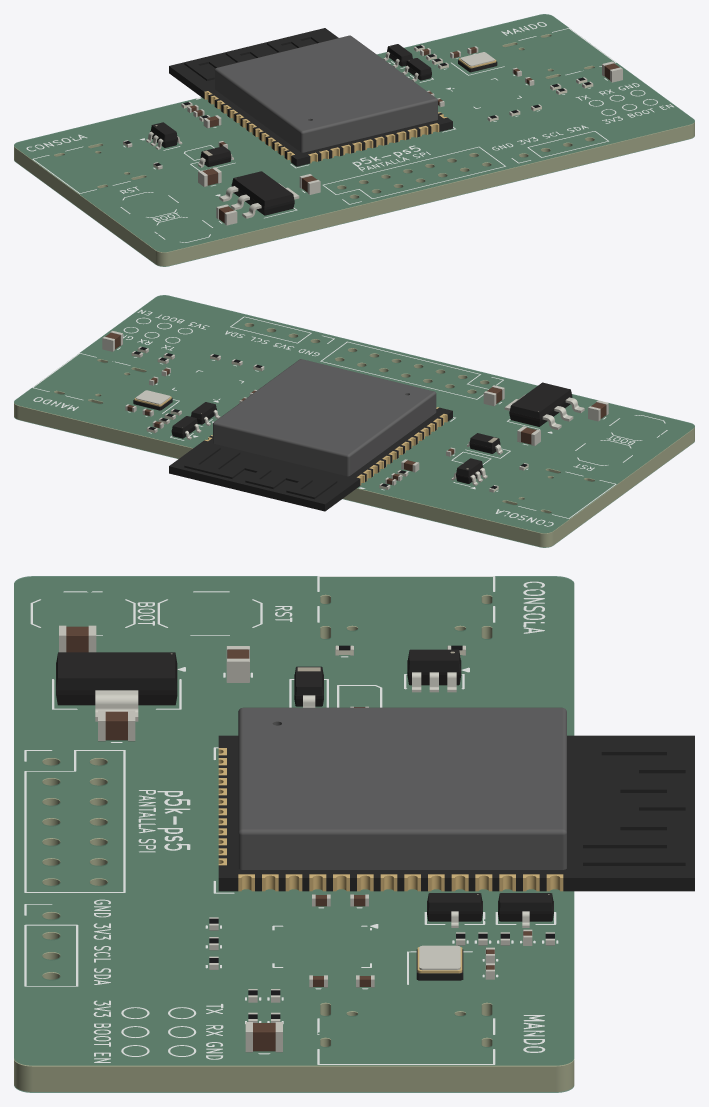
The model's file is placa.glb.
3 renders of one model, top to bottom at view 1: azimuth 30°, elevation 25°; view 2: azimuth 150°, elevation 25°; view 3: azimuth 270°, elevation 25°, orthographic. The views are drawn at different scales.
Visible parts, largest first — view 1: =>[0:1:1:26], =>[0:1:1:24], =>[0:1:1:15], =>[0:1:1:22], =>[0:1:1:9], =>[0:1:1:19] (×2), =>[0:1:1:25], =>[0:1:1:17], =>[0:1:1:3], =>[0:1:1:21]; view 2: =>[0:1:1:26], =>[0:1:1:24], =>[0:1:1:15], =>[0:1:1:22], =>[0:1:1:9], =>[0:1:1:19] (×2), =>[0:1:1:17], =>[0:1:1:25], =>[0:1:1:3], =>[0:1:1:21]; view 3: =>[0:1:1:26], =>[0:1:1:24], =>[0:1:1:15], =>[0:1:1:22], =>[0:1:1:9], =>[0:1:1:11] (×4), =>[0:1:1:19] (×2), =>[0:1:1:17], =>[0:1:1:3], =>[0:1:1:21].
Boxes of the visible parts, <box> form: =>[0:1:1:26]: <box>14,15,694,266</box>; =>[0:1:1:24]: <box>14,14,694,252</box>; =>[0:1:1:15]: <box>169,28,452,166</box>; =>[0:1:1:22]: <box>26,22,673,242</box>; =>[0:1:1:9]: <box>219,171,299,218</box>; =>[0:1:1:19] (×2): <box>383,44,431,81</box>; =>[0:1:1:25]: <box>14,136,694,266</box>; =>[0:1:1:17]: <box>146,122,182,149</box>; =>[0:1:1:3]: <box>458,52,497,72</box>; =>[0:1:1:21]: <box>198,146,233,167</box>; =>[0:1:1:26]: <box>14,296,694,547</box>; =>[0:1:1:24]: <box>14,295,694,533</box>; =>[0:1:1:15]: <box>169,359,452,511</box>; =>[0:1:1:22]: <box>32,309,667,526</box>; =>[0:1:1:9]: <box>504,382,584,429</box>; =>[0:1:1:19] (×2): <box>171,402,220,439</box>; =>[0:1:1:17]: <box>451,458,487,485</box>; =>[0:1:1:25]: <box>14,417,694,547</box>; =>[0:1:1:3]: <box>133,390,172,410</box>; =>[0:1:1:21]: <box>467,433,502,454</box>; =>[0:1:1:26]: <box>14,577,574,1091</box>; =>[0:1:1:24]: <box>14,576,574,1065</box>; =>[0:1:1:15]: <box>218,707,694,891</box>; =>[0:1:1:22]: <box>24,576,558,1064</box>; =>[0:1:1:9]: <box>56,652,177,721</box>; =>[0:1:1:11] (×4): <box>59,625,282,1052</box>; =>[0:1:1:19] (×2): <box>427,893,553,927</box>; =>[0:1:1:17]: <box>407,649,461,692</box>; =>[0:1:1:3]: <box>416,945,463,980</box>; =>[0:1:1:21]: <box>294,666,323,707</box>.
Bounding box in the file's own units: 0.062 × 0.00477 × 0.0364.
